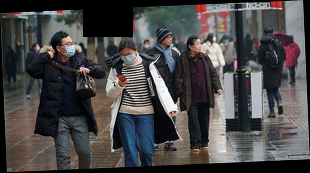with_mask: (62, 39, 76, 59), (120, 50, 136, 65), (144, 41, 151, 49), (223, 36, 230, 44), (35, 43, 41, 52), (212, 34, 217, 43)
without_mask: (193, 40, 202, 54), (164, 34, 174, 46)
